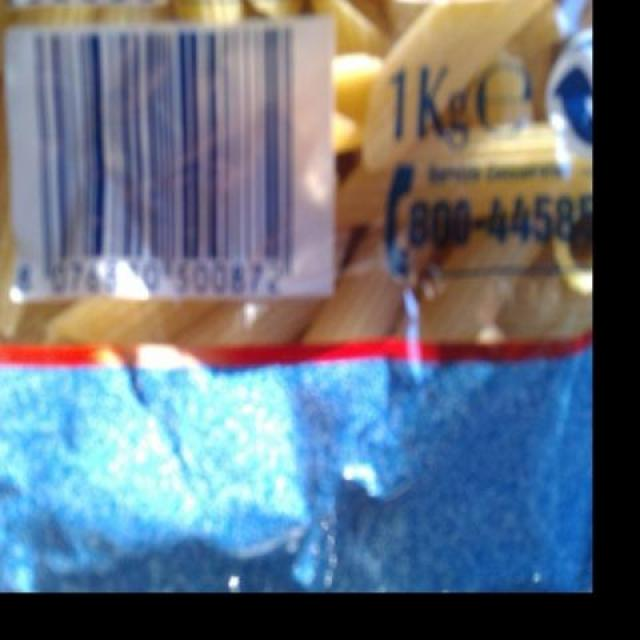Barcode: (9, 14, 332, 294)
